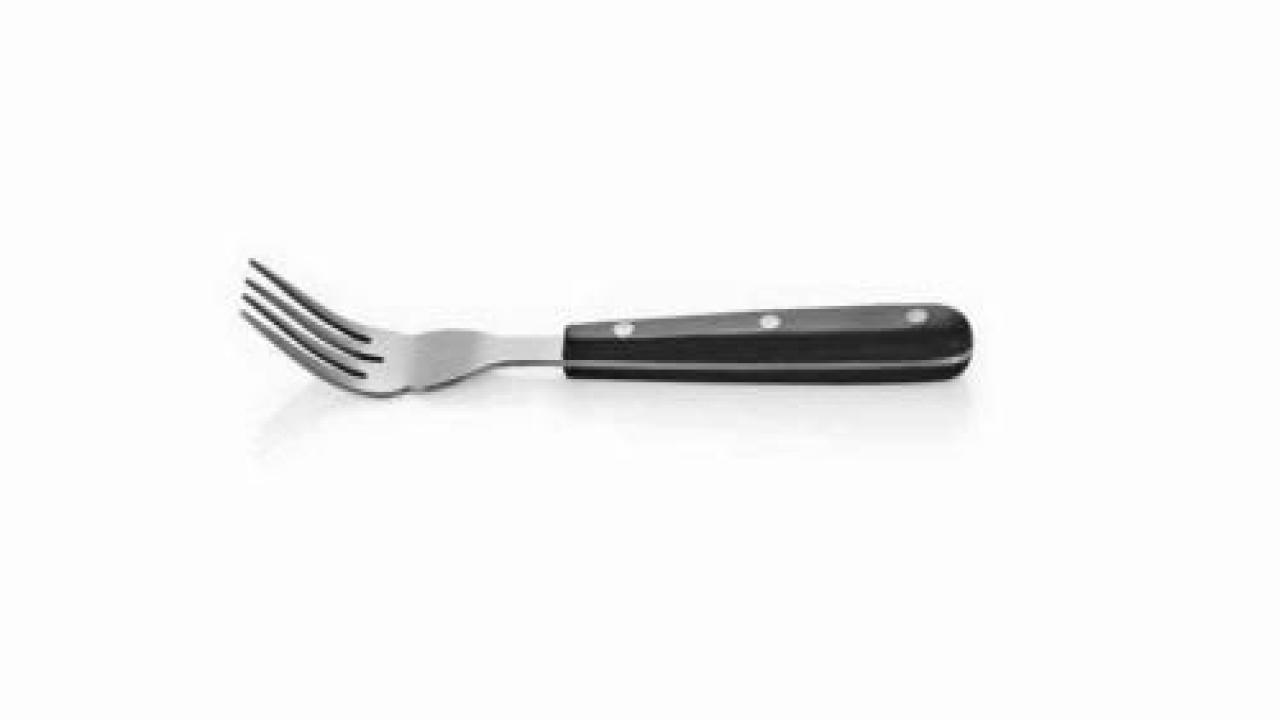fork: (235, 255, 973, 395)
